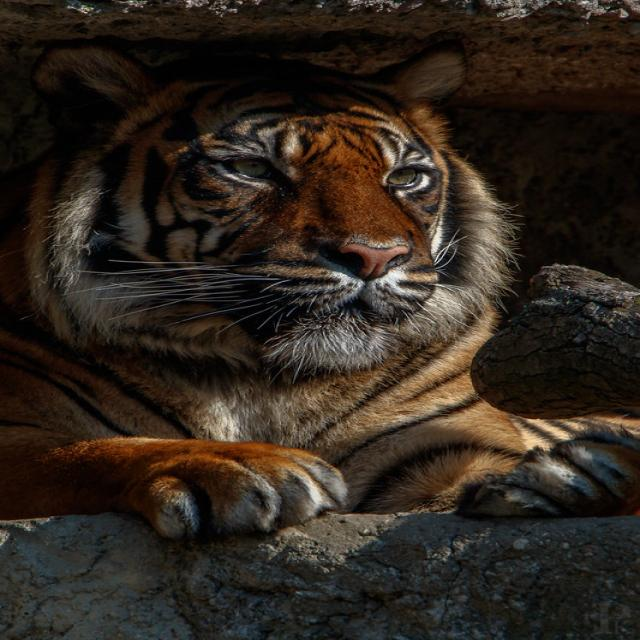Tiger: (0, 34, 632, 543)
